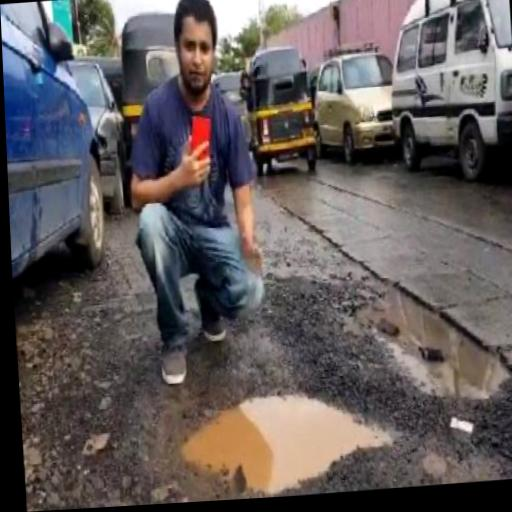pothole: (174, 377, 397, 500), (347, 274, 512, 407)
